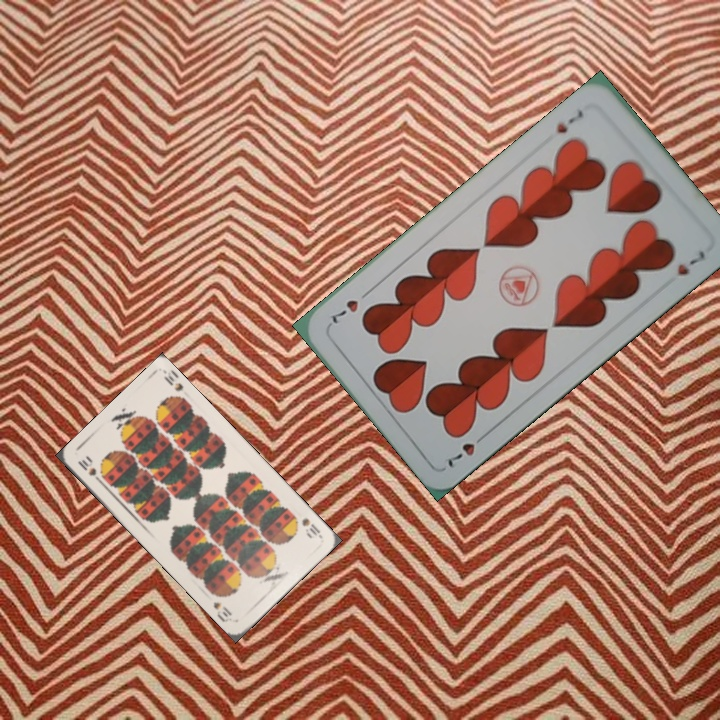H7: (443, 428, 490, 470), (552, 104, 587, 137)
S10: (73, 453, 106, 487), (297, 514, 323, 540)
